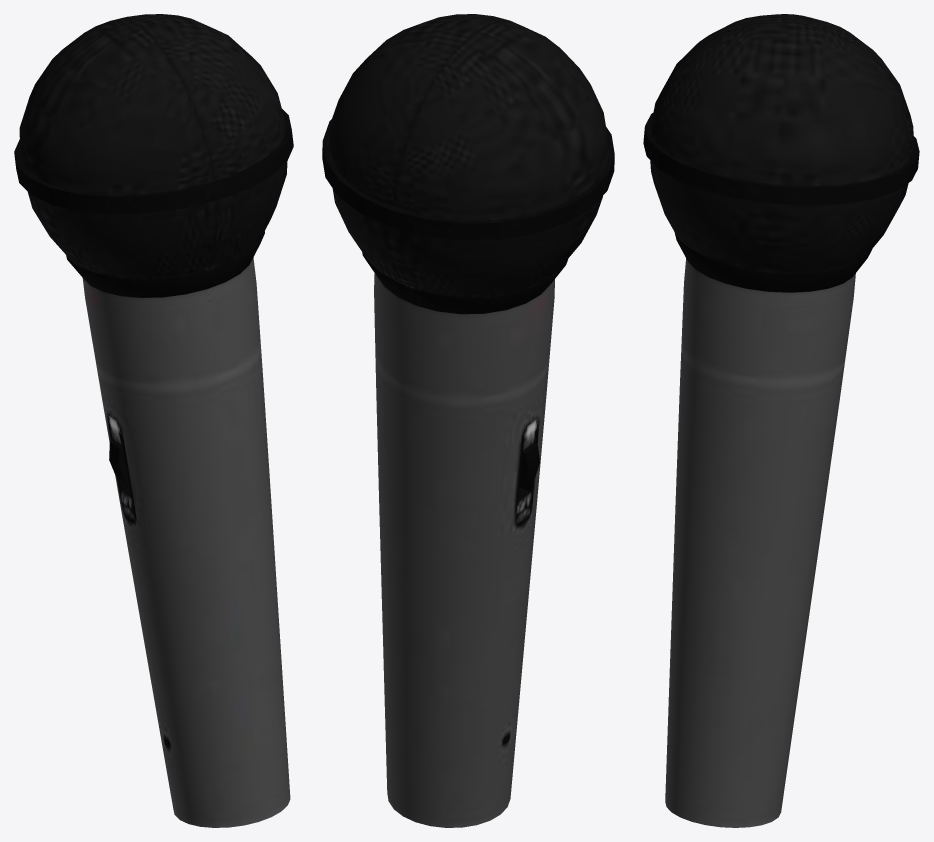
The model's file is handmic.glb.
3 renders of one model, left to right at view 1: azimuth 30°, elevation 25°; view 2: azimuth 150°, elevation 25°; view 3: azimuth 270°, elevation 25°, orthographic. The views are drawn at different scales.
Visible parts, largest first — view 1: handmic; view 2: handmic; view 3: handmic.
Boxes of the visible parts, bbox=[...] form: handmic: bbox=[14, 14, 293, 827]; handmic: bbox=[322, 14, 614, 827]; handmic: bbox=[643, 14, 919, 827].
Size of the model in its own units: 0.0623 by 0.19 by 0.0623.
1 material, 1 textured.
